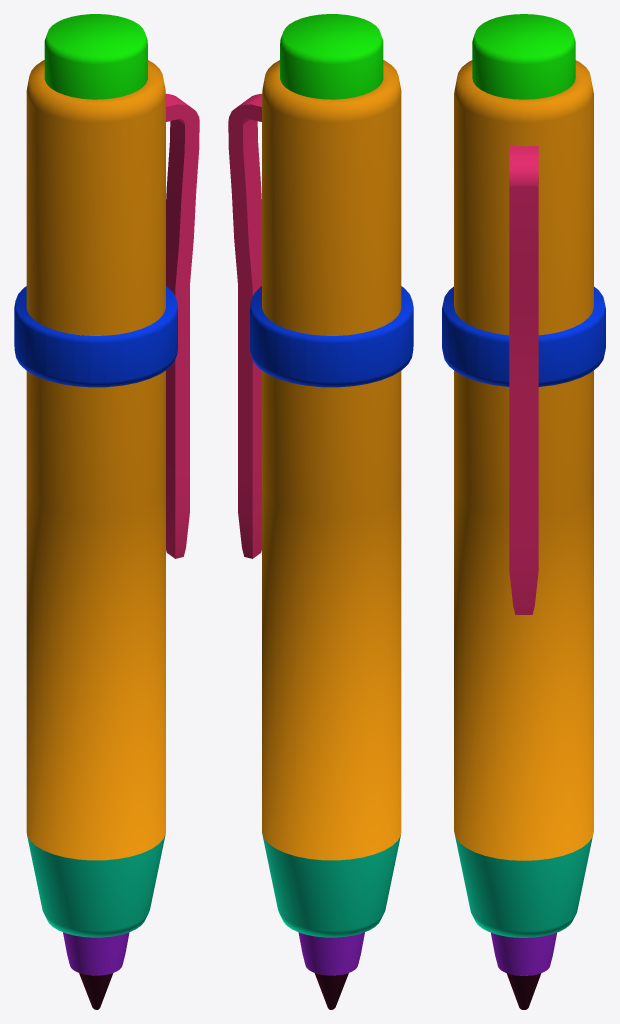
File: pen.fbx
The picture shows the model from 3 angles, left to right: view 1: azimuth 30°, elevation 25°; view 2: azimuth 150°, elevation 25°; view 3: azimuth 270°, elevation 25°; orthographic projection.
Parts seen in each view (by area): view 1: body, Klammer, ring, middle, top, bottom, tip; view 2: body, Klammer, ring, middle, top, bottom, tip; view 3: body, Klammer, middle, top, ring, bottom, tip.
Part boxes in pixels (x1=…): body: x1=26, y1=60, x2=165, y2=860; Klammer: x1=166, y1=93, x2=199, y2=558; ring: x1=14, y1=286, x2=177, y2=387; middle: x1=27, y1=834, x2=165, y2=937; top: x1=44, y1=14, x2=147, y2=99; bottom: x1=63, y1=932, x2=129, y2=975; tip: x1=79, y1=973, x2=113, y2=1009; body: x1=262, y1=60, x2=401, y2=860; Klammer: x1=228, y1=93, x2=261, y2=558; ring: x1=250, y1=286, x2=413, y2=387; middle: x1=262, y1=834, x2=400, y2=937; top: x1=280, y1=14, x2=383, y2=99; bottom: x1=298, y1=932, x2=364, y2=975; tip: x1=314, y1=973, x2=348, y2=1009; body: x1=454, y1=60, x2=593, y2=860; Klammer: x1=509, y1=146, x2=538, y2=614; middle: x1=455, y1=837, x2=592, y2=937; top: x1=472, y1=14, x2=575, y2=99; ring: x1=442, y1=286, x2=605, y2=386; bottom: x1=491, y1=932, x2=556, y2=975; tip: x1=506, y1=973, x2=541, y2=1009.
Bounding box in the file's own units: 46.8 × 261 × 39.77.
